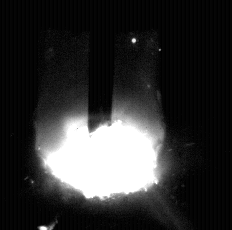arame: (89, 0, 113, 132)
poca: (34, 0, 163, 230)
